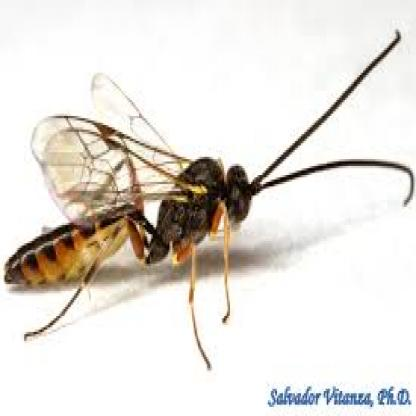sawfly: (1, 32, 416, 376)
